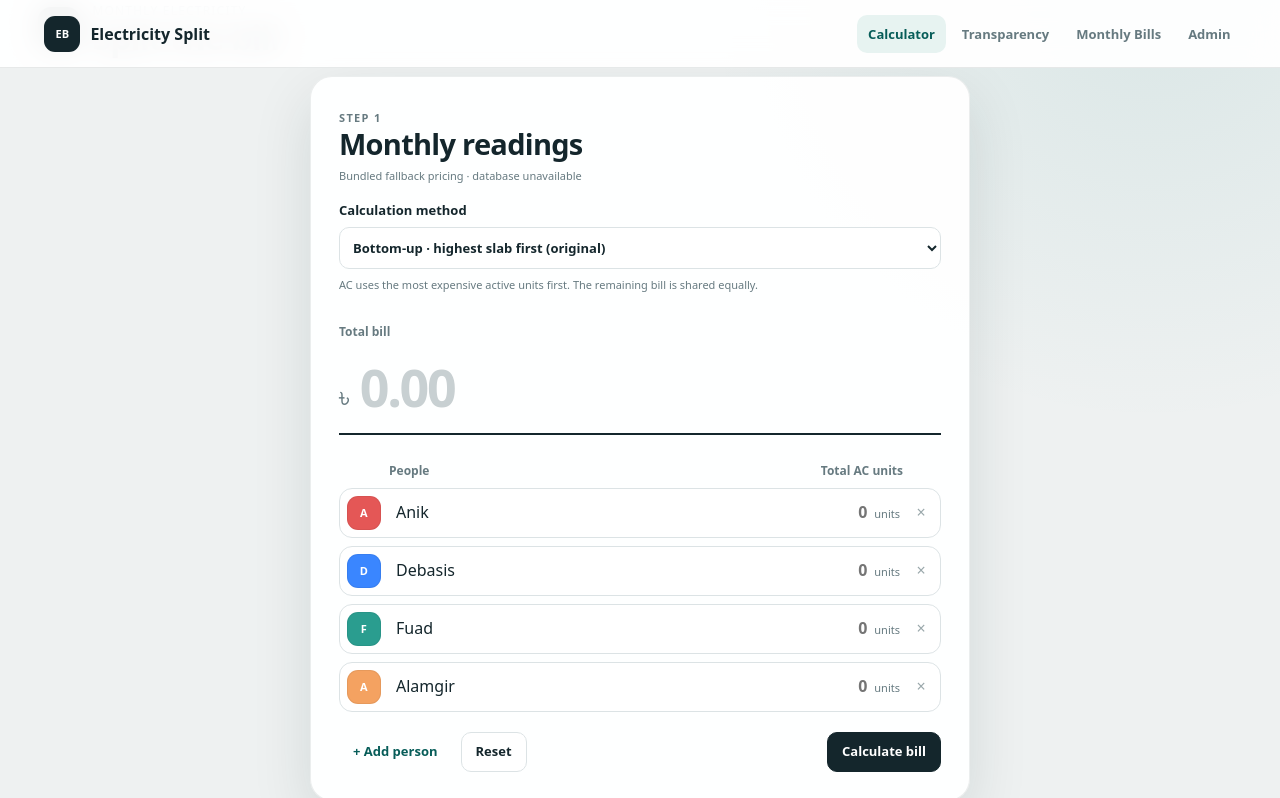
Test: application views › explicitly labels bundled fallback pricing after a database load failure
(page scrolled)
Expected: the text "Bundled fallback pricing · database unavailable" is shown, [339,168,582,183]
Step 1. Click the button "Transparency" → (1006, 34), box [951,14,1060,52]
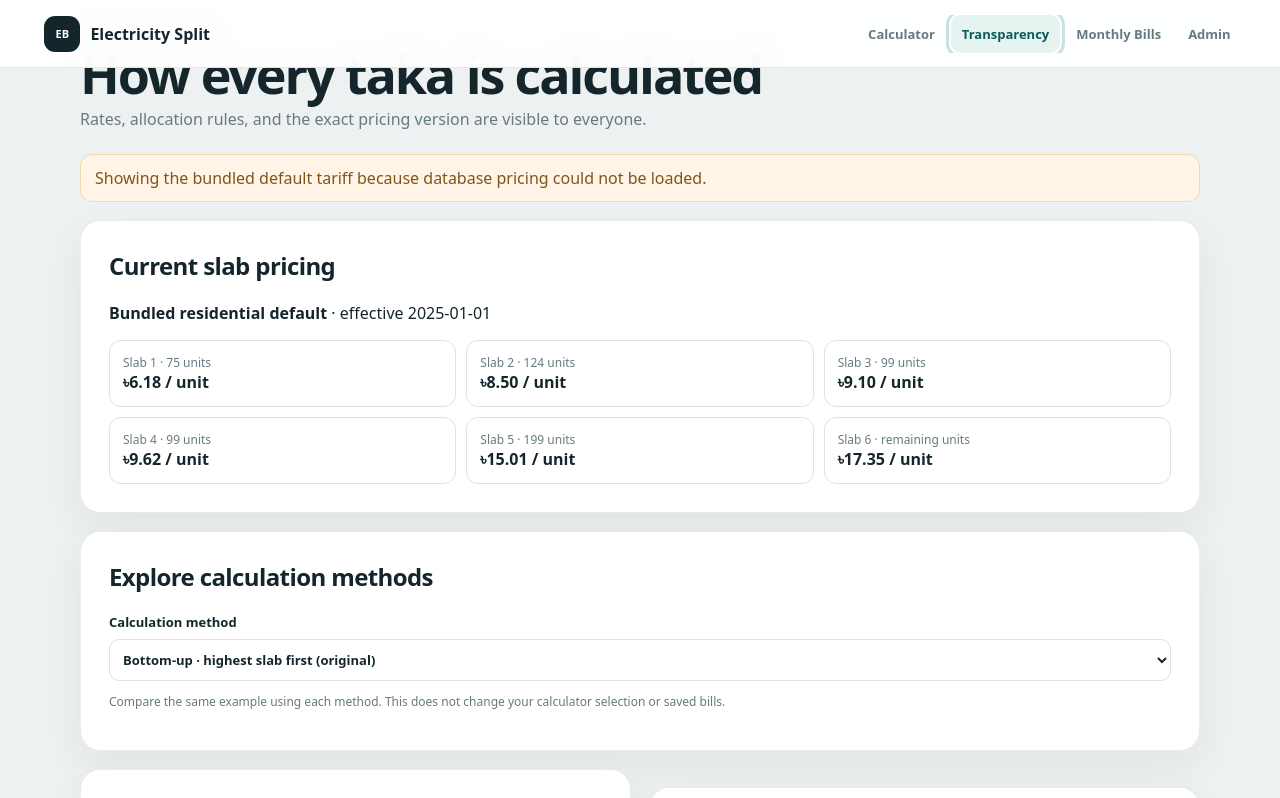
Expected: the text "bundled default tariff because database pricing could not be loaded" is shown, [95,167,706,189]
